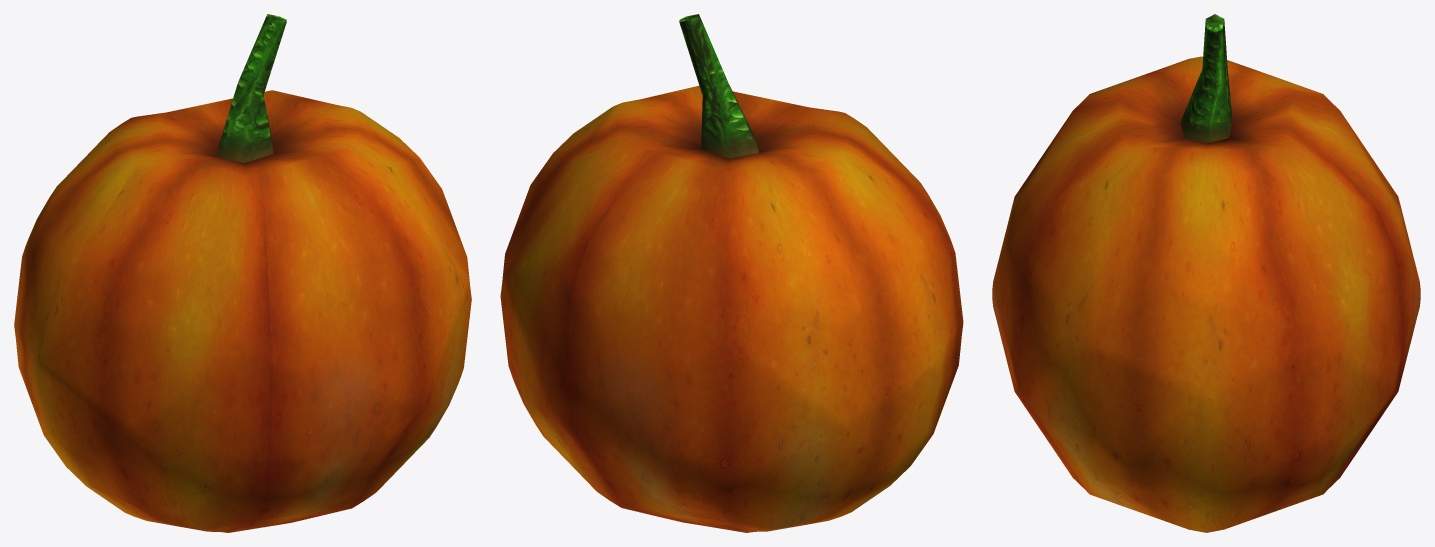
The model's file is ogreboss-bounce-boulder-lod0.glb.
The picture shows the model from 3 angles, left to right: view 1: azimuth 30°, elevation 25°; view 2: azimuth 150°, elevation 25°; view 3: azimuth 270°, elevation 25°; orthographic projection. The views are drawn at different scales.
Parts seen in each view (by area): view 1: boulders; view 2: boulders; view 3: boulders.
Boxes of the visible parts, left/top/right/bottom form: boulders: left=14, top=14, right=471, bottom=532; boulders: left=500, top=14, right=963, bottom=532; boulders: left=992, top=14, right=1420, bottom=532.
Bounding box in the file's own units: 8.13 × 9.24 × 7.12.
1 material, 1 textured.
